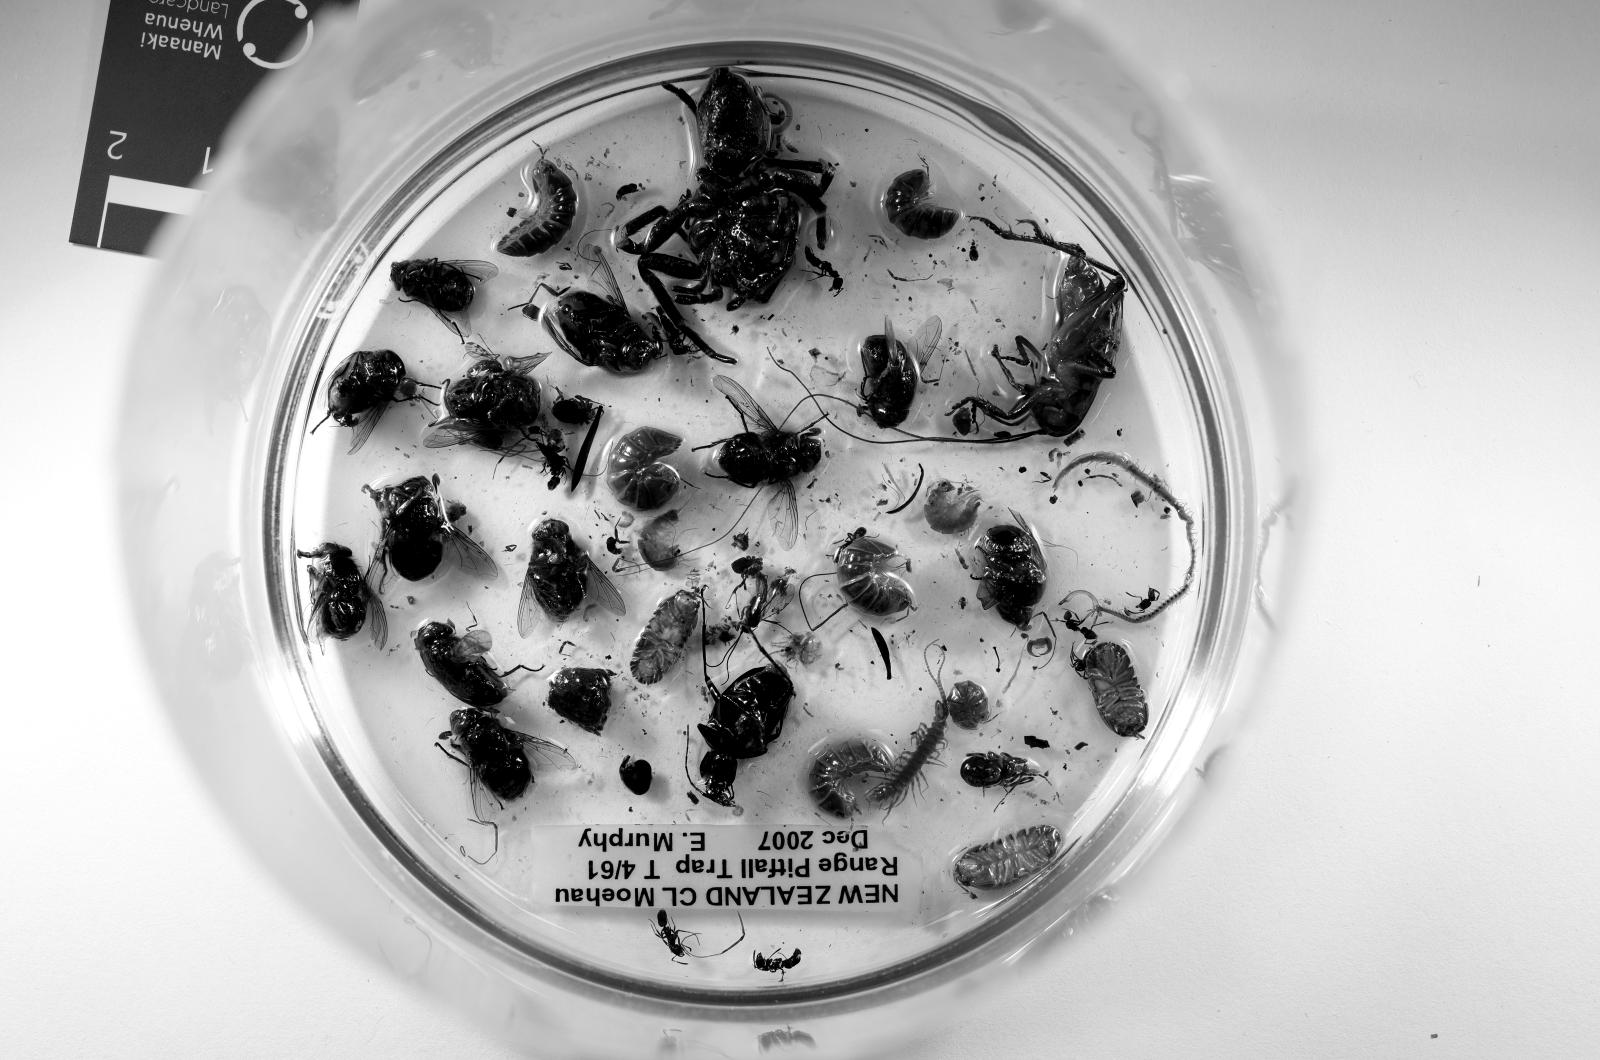amphipoda: (925, 481, 982, 535), (637, 509, 681, 571)
araneae: (616, 69, 835, 354)
carabidae: (694, 661, 793, 807)
chilopoda: (1054, 451, 1197, 625), (869, 699, 947, 814)
diptera: (706, 376, 822, 550), (522, 245, 666, 373), (438, 707, 575, 820), (365, 476, 497, 581), (519, 518, 626, 636), (425, 348, 546, 451), (297, 543, 388, 649), (856, 317, 940, 428), (328, 351, 419, 453), (972, 516, 1047, 631), (413, 621, 510, 707), (390, 258, 497, 332), (740, 571, 797, 631)
formicidae: (653, 910, 691, 959), (807, 248, 843, 295), (753, 950, 799, 978), (1062, 612, 1097, 640)
isopoda: (497, 149, 578, 258), (831, 531, 915, 618), (957, 826, 1062, 888), (809, 739, 894, 816), (631, 590, 700, 684), (607, 426, 681, 509), (1084, 642, 1147, 736), (885, 168, 959, 239), (947, 680, 991, 730)
opiliones: (959, 751, 1047, 795), (553, 392, 597, 426), (731, 556, 763, 587)
orthoptera: (953, 218, 1125, 438)
